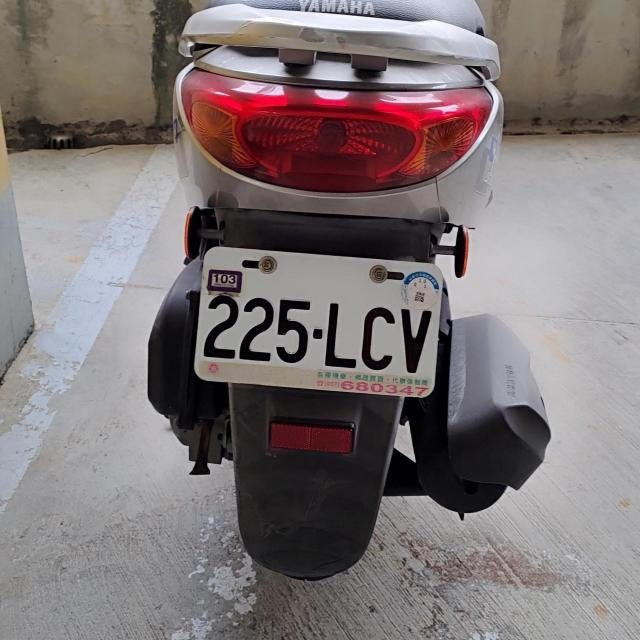W: (192, 247, 448, 395)
